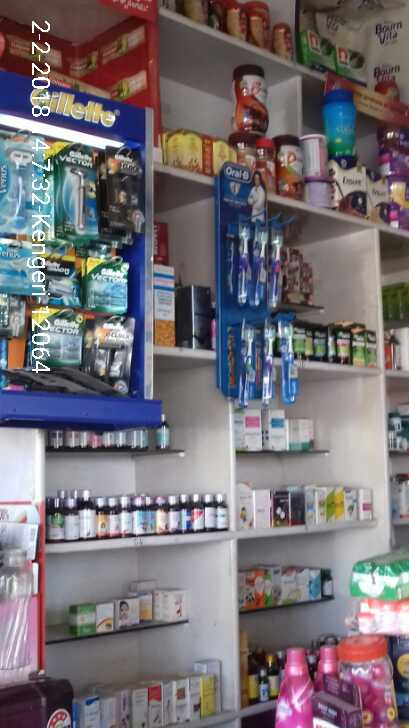beauty: (55, 141, 98, 235), (87, 319, 134, 396), (87, 253, 128, 317), (105, 144, 141, 210)
pharmacy: (276, 312, 300, 401), (257, 316, 278, 405), (235, 203, 252, 307), (235, 318, 255, 405), (269, 213, 285, 308), (253, 216, 269, 308)
